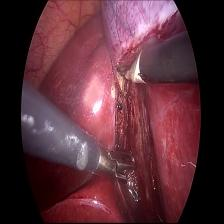Grasper: (99, 137, 137, 197)
Hook: (112, 51, 149, 93)
